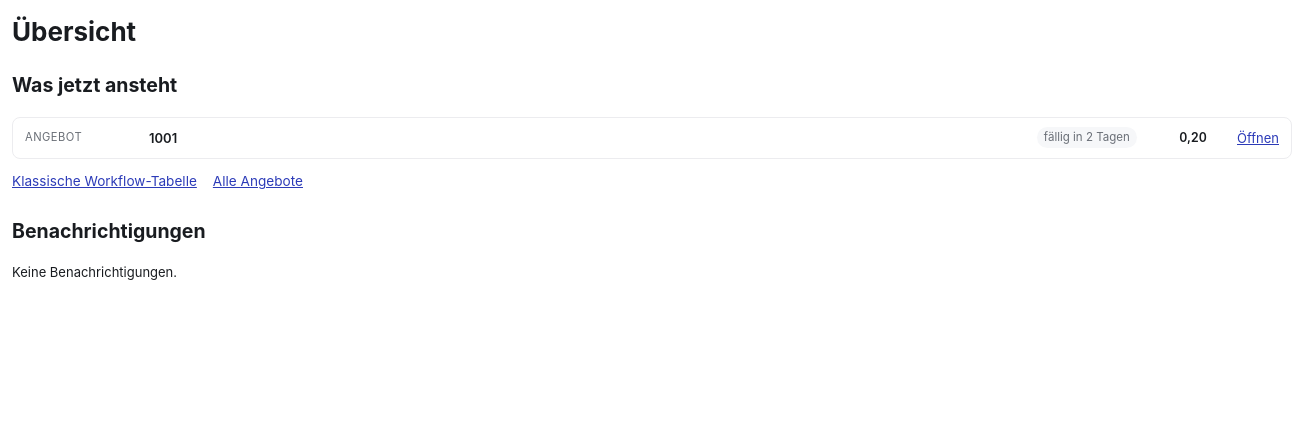
it: DashboardPage › explains a row: the factors expand and add up to its score
Click the button "0,20". click: (1193, 138)
box: [1161,126,1225,150]
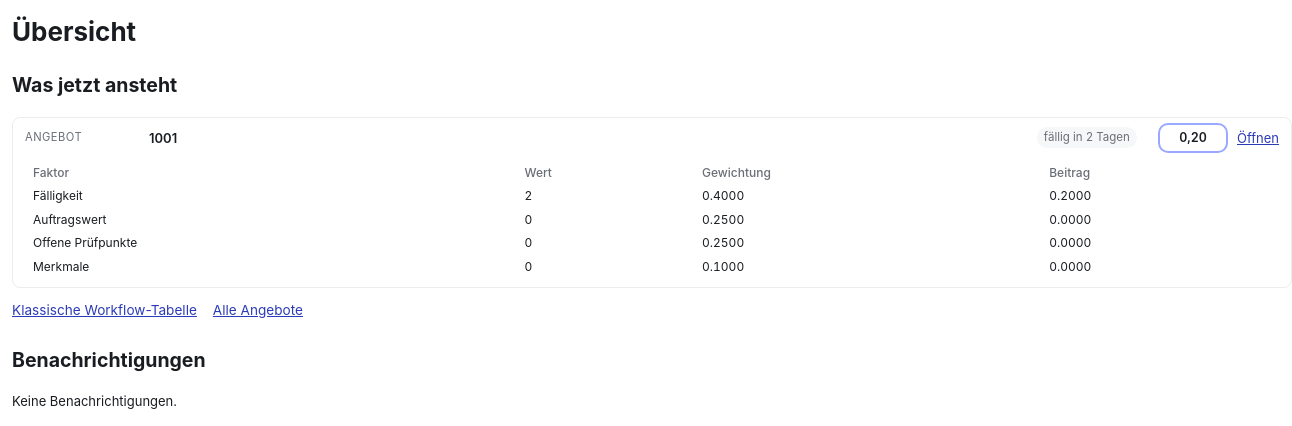
Expected: the table with test id "queue-factors" is shown, [25,162,1279,279]
Expected: the row with test id "factor-due" shows "0.2000", [1049,188,1091,203]
Expected: the row with test id "factor-flags" shows "0.0000", [1049,258,1091,274]
